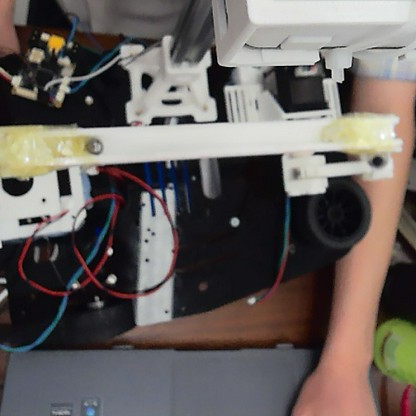ironball: (82, 135, 104, 158)
